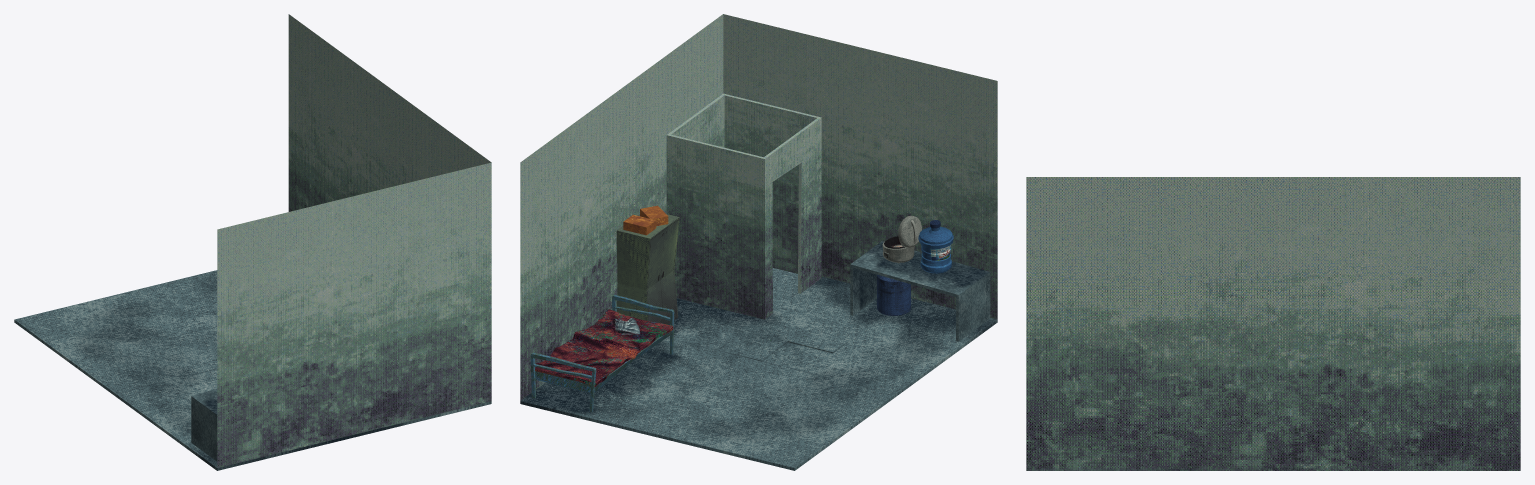
The model's file is Room.fbx.
3 renders of one model, left to right at view 1: azimuth 30°, elevation 25°; view 2: azimuth 150°, elevation 25°; view 3: azimuth 270°, elevation 25°, orthographic. The views are drawn at different scales.
Parts seen in each view (by area): view 1: Cube.001, Cube.011, Plane; view 2: Cube.001, Cube.011, Cube.003, Plane, Cube.002, Cube.010, Binh nuoc om, noi com.001, Cube.015, Cylinder, Cube.014, Cube.008 (+3 smaller); view 3: Cube.001, Cube.011.
Boxes of the visible parts, box(x1,y1,x2,y2) form: Cube.001: box(217, 14, 491, 467); Cube.011: box(14, 270, 491, 470); Plane: box(191, 389, 217, 461); Cube.001: box(520, 14, 997, 400); Cube.011: box(520, 268, 997, 470); Cube.003: box(666, 93, 821, 319); Plane: box(850, 241, 990, 341); Cube.002: box(616, 213, 679, 324); Cube.010: box(535, 309, 673, 386); Binh nuoc om: box(918, 220, 953, 273); noi com.001: box(882, 215, 921, 263); Cube.015: box(723, 331, 787, 361); Cylinder: box(877, 275, 910, 315); Cube.014: box(788, 326, 853, 353); Cube.008: box(530, 352, 596, 412); Cube.001: box(1026, 177, 1520, 470); Cube.011: box(1026, 467, 1510, 470).
Size of the model in its own units: 1007 by 847 by 1289.
